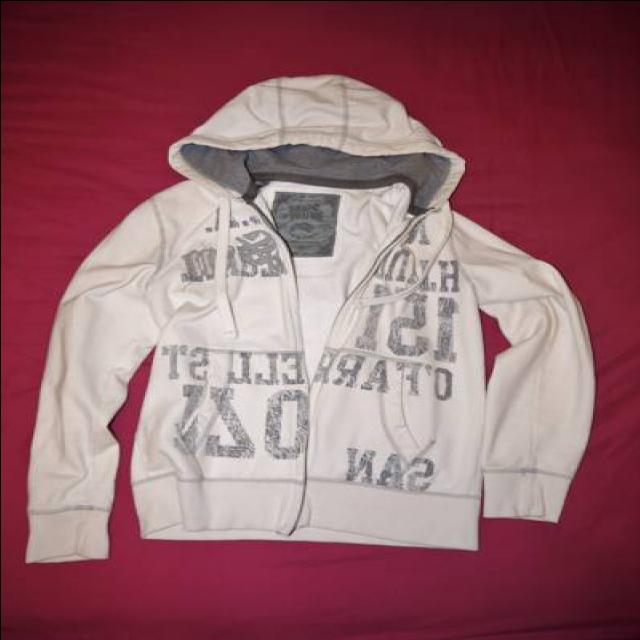non-organik: (11, 38, 606, 572)
